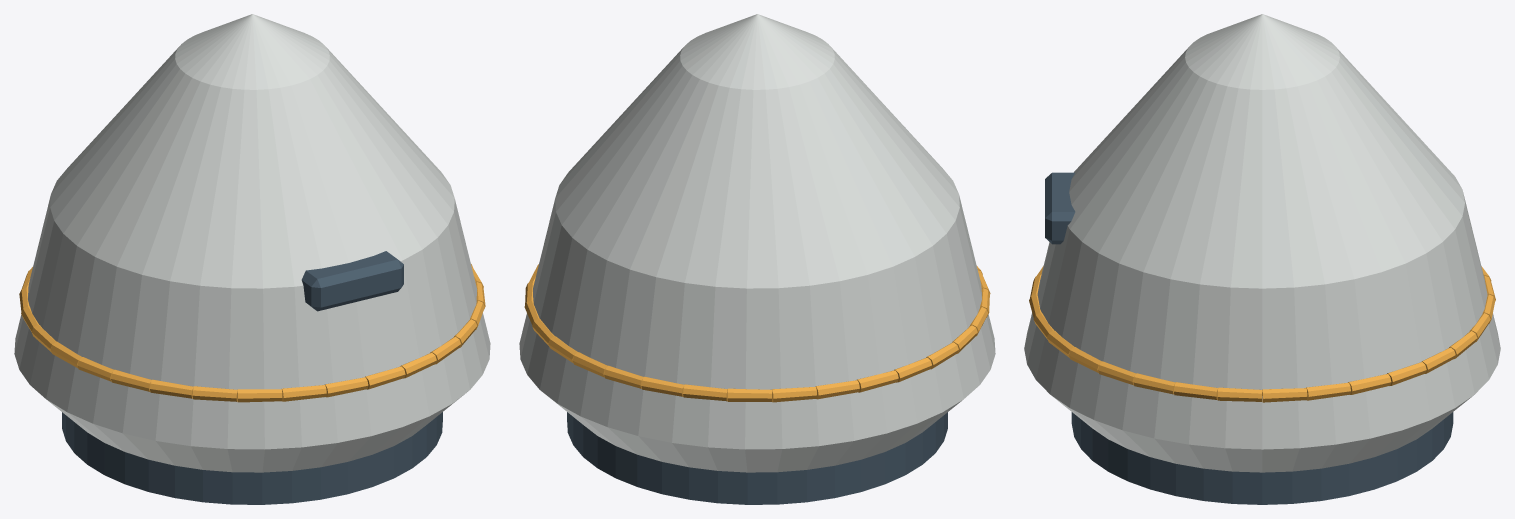
The picture shows the model from 3 angles, left to right: view 1: azimuth 30°, elevation 25°; view 2: azimuth 150°, elevation 25°; view 3: azimuth 270°, elevation 25°; orthographic projection.
Visible parts, largest first — view 1: ME-049 Compact sample-return capsule batched; view 2: ME-049 Compact sample-return capsule batched; view 3: ME-049 Compact sample-return capsule batched.
Part boxes in pixels (bbox=[...]): ME-049 Compact sample-return capsule batched: bbox=[14, 14, 490, 504]; ME-049 Compact sample-return capsule batched: bbox=[519, 14, 995, 504]; ME-049 Compact sample-return capsule batched: bbox=[1024, 14, 1500, 504].
Bounding box in the file's own units: 0.8 × 0.76 × 0.8.
